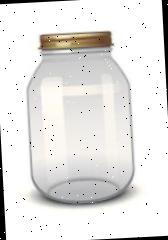glass: (22, 29, 138, 207)
